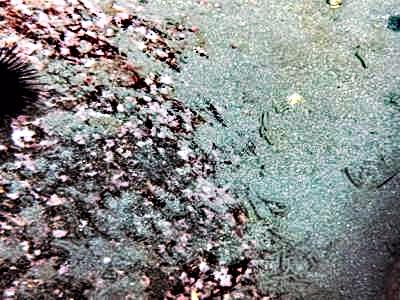urchin: (2, 41, 43, 128)
